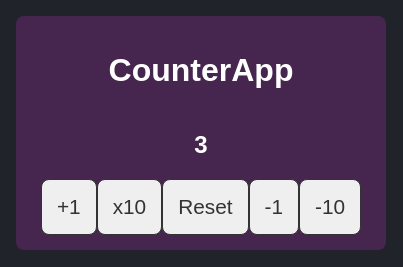
Scenario: File: <Counter> › #5 Test: ( must reset the value the button ´reset´ )
Click the button "+1": (69, 207) [41,179,97,235]
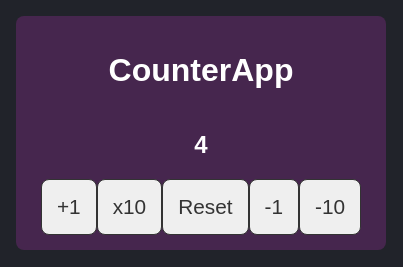
Click the button "+1": (69, 207) [41,179,97,235]
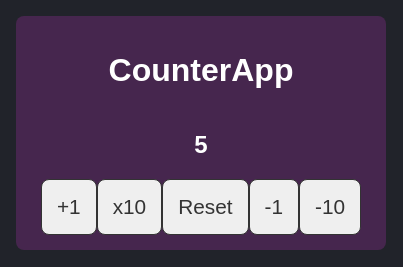
Click the button "+1": (69, 207) [41,179,97,235]
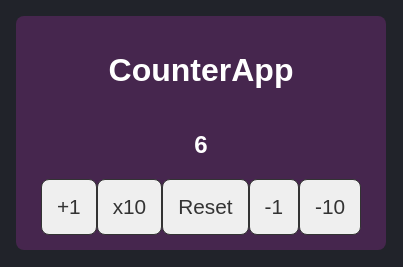
Click the button with aria-label "btn-reset": (205, 207) [162,179,248,235]
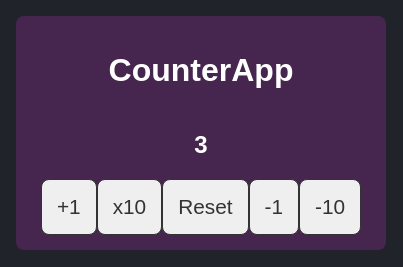
Expected: the heading "3" is shown, [194,131,208,159]
